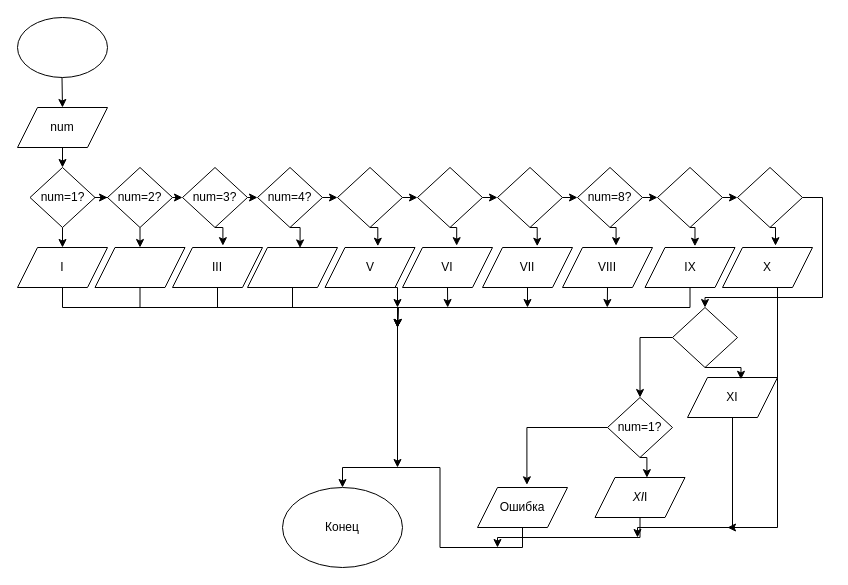
This 848x585 diagram has some shape labels left out. Here are the shapes that lost their labels. From the top down, the centre of each, then its label:
At pixel 62 47: "начало".
At pixel 369 197: "num=5?".
At pixel 449 197: "num=6?".
At pixel 529 197: "num=7?".
At pixel 689 197: "num=9?".
At pixel 769 197: "num=10?".
At pixel 139 267: "II".
At pixel 292 267: "IV".
At pixel 705 337: "num=11?".
